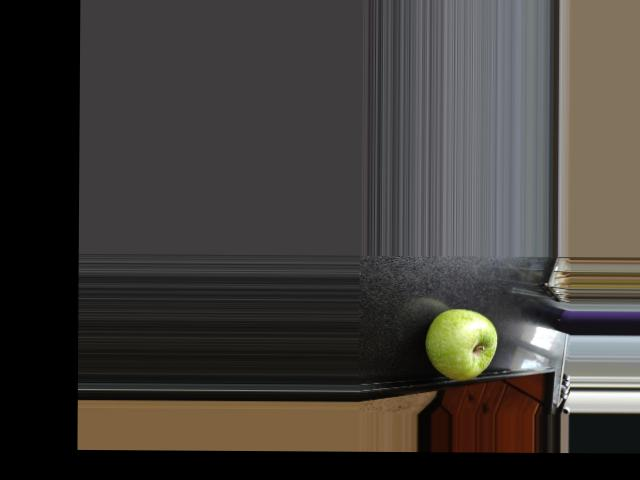apple: (420, 304, 501, 382)
